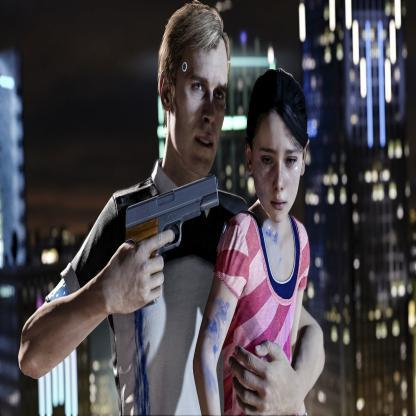Pistol: (121, 168, 224, 266)
